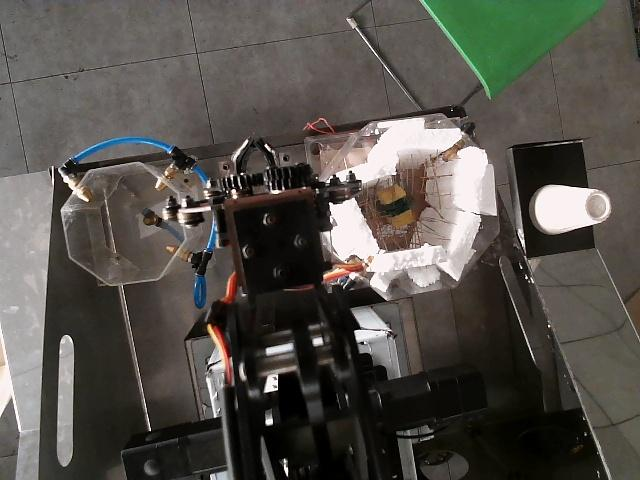cup: (529, 184, 612, 234)
